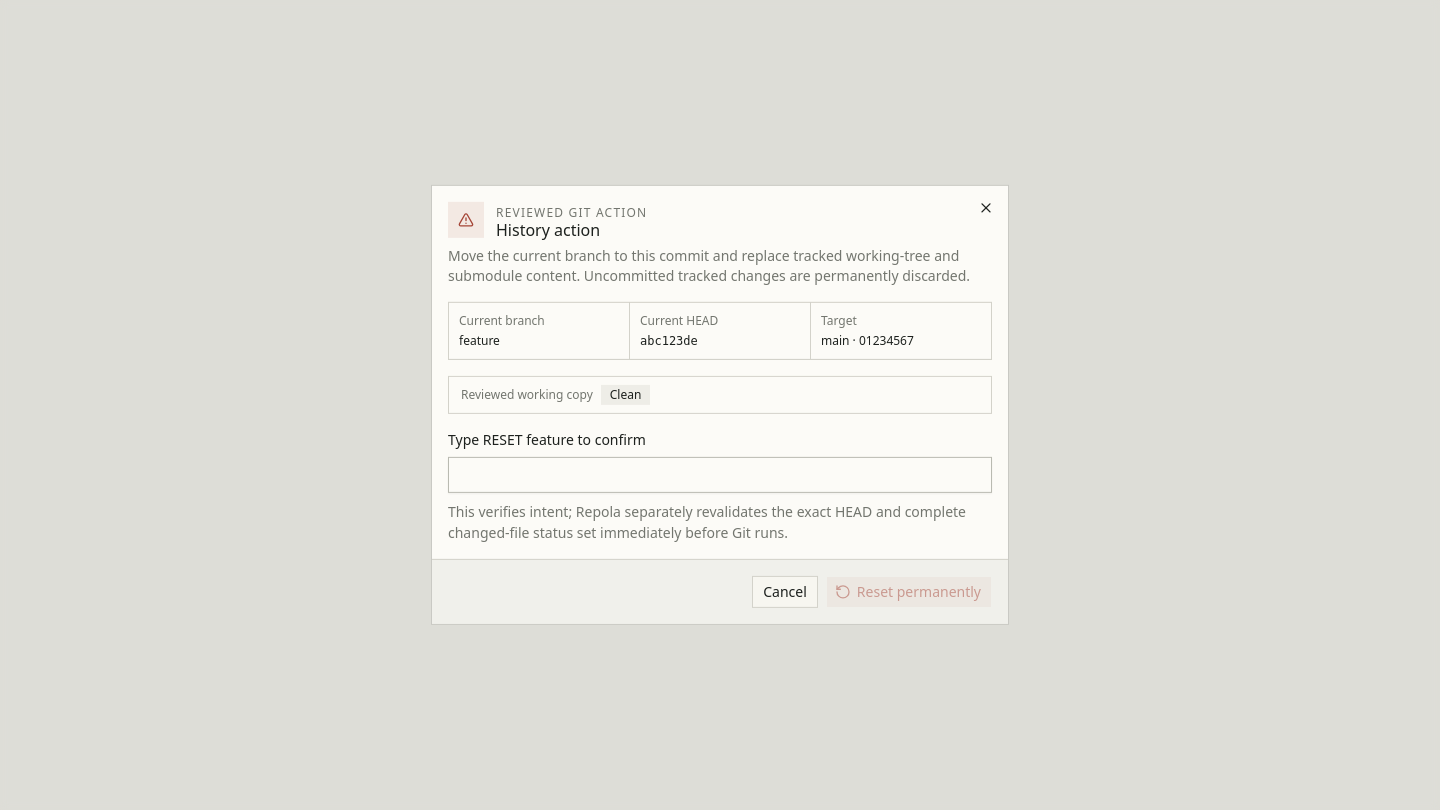
HistoryMutationDialog › keeps a hard reset disabled until the exact `RESET <branch>` phrase is typed
Expected: the button "Reset permanently" is disabled, [826, 576, 992, 608]
In the field labelled "Type RESET feature to confirm": (720, 475) [448, 457, 992, 493], type "reset feature"
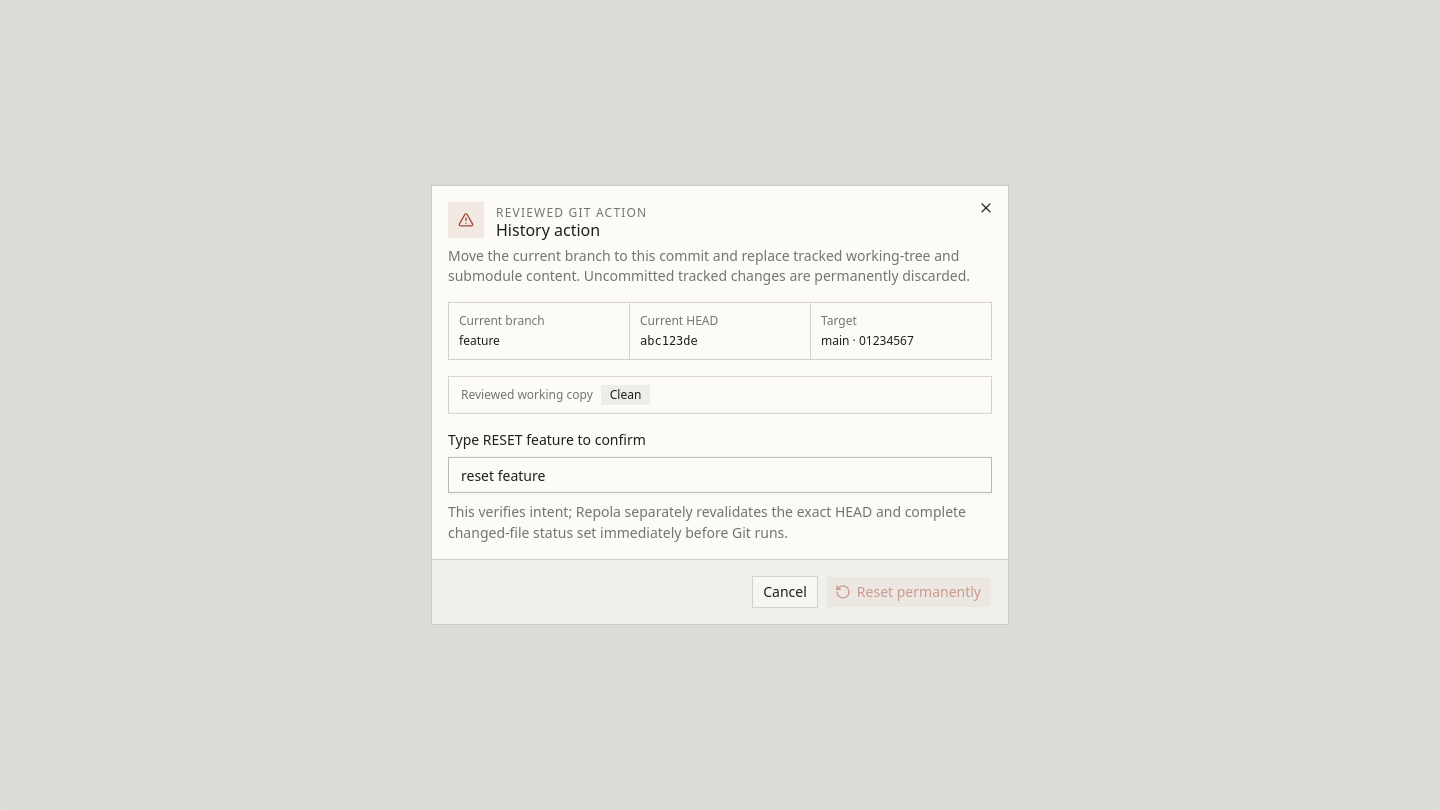
Expected: the button "Reset permanently" is disabled, [826, 576, 992, 608]
Replace the text in the field labelled "Type RESET feature to confirm" with "RESET main": (720, 475) [448, 457, 992, 493]
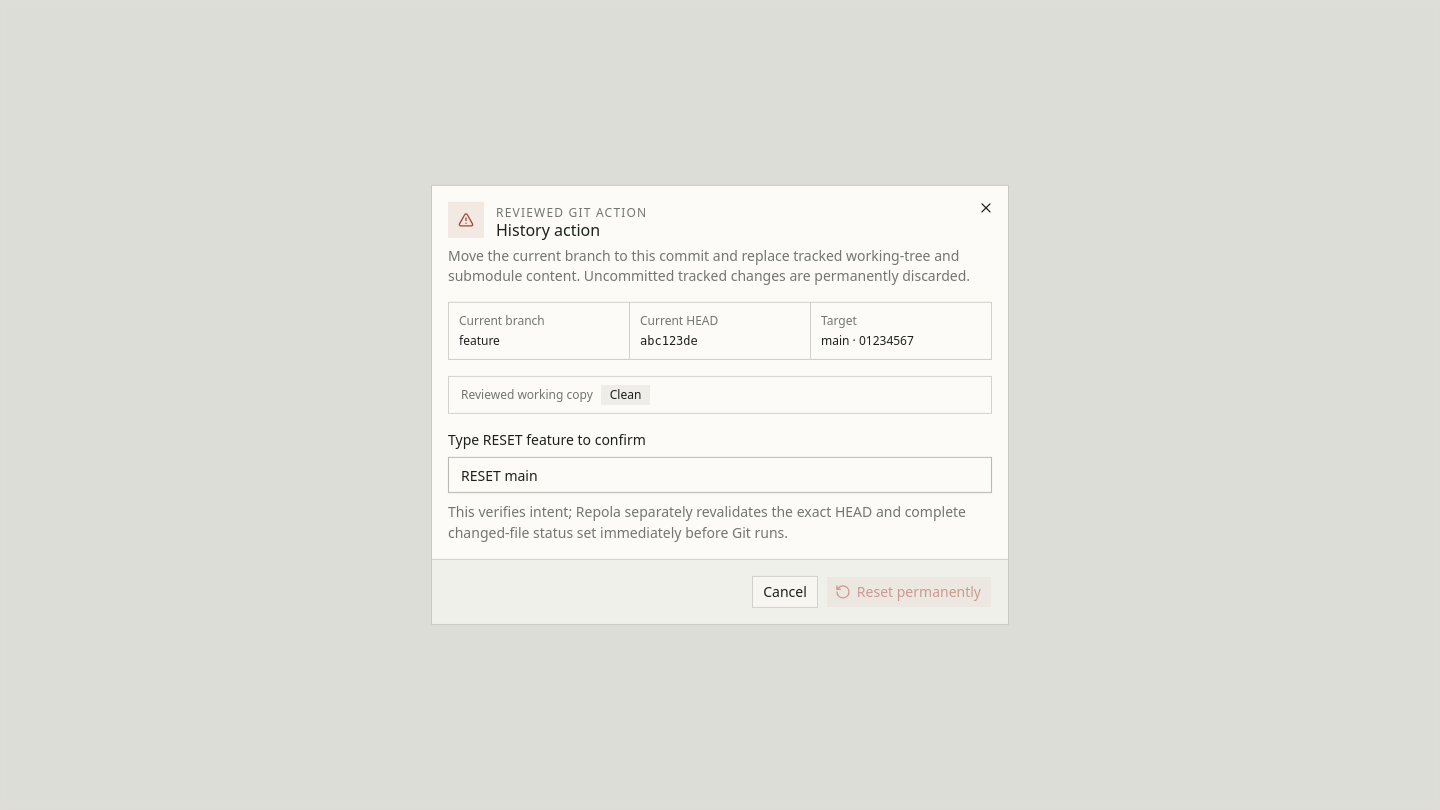
Expected: the button "Reset permanently" is disabled, [826, 576, 992, 608]
Replace the text in the field labelled "Type RESET feature to confirm" with "RESET feature": (720, 475) [448, 457, 992, 493]
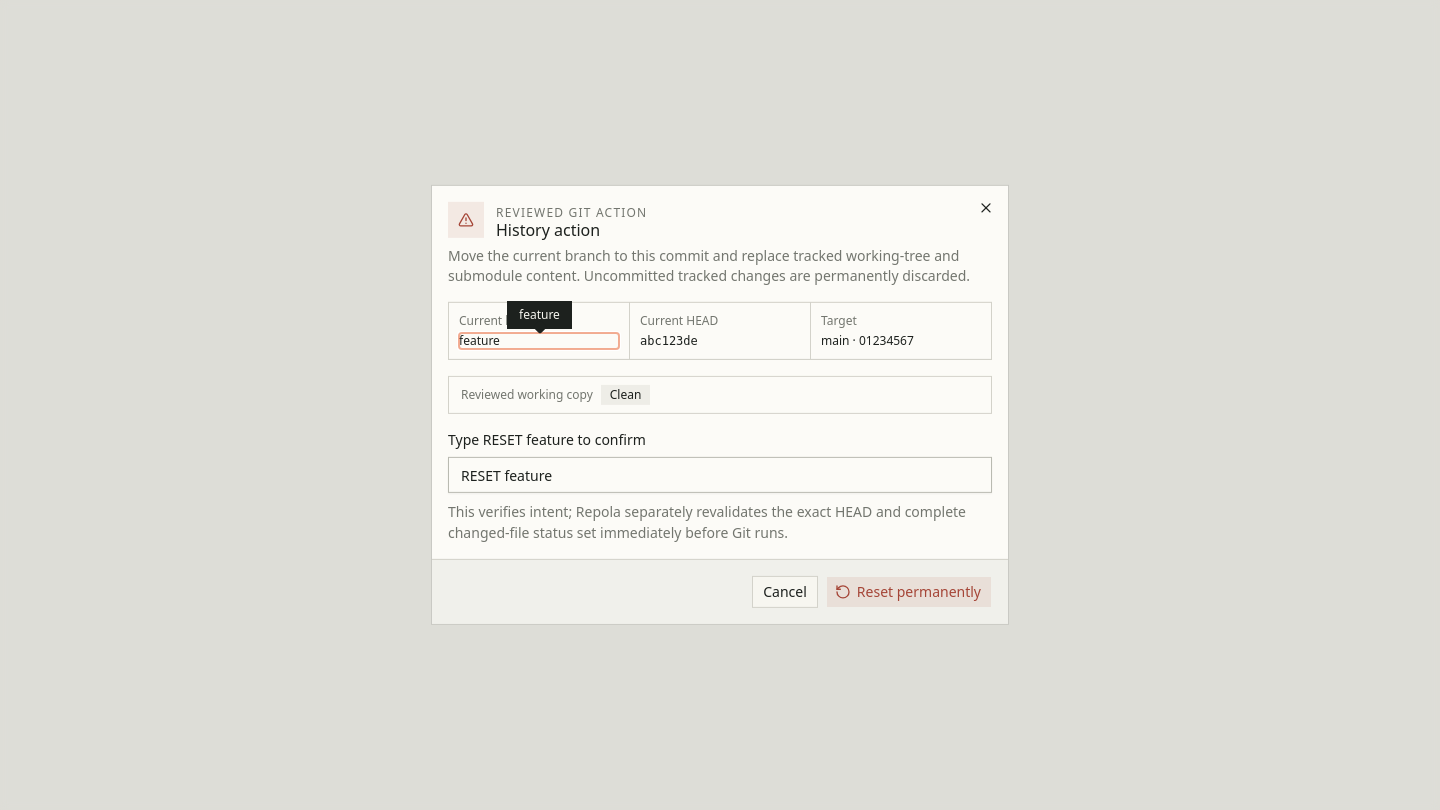
Now the button "Reset permanently" is enabled, box [826, 576, 992, 608]
